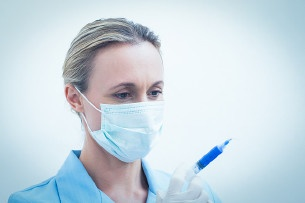Mask: (90, 76, 176, 163)
